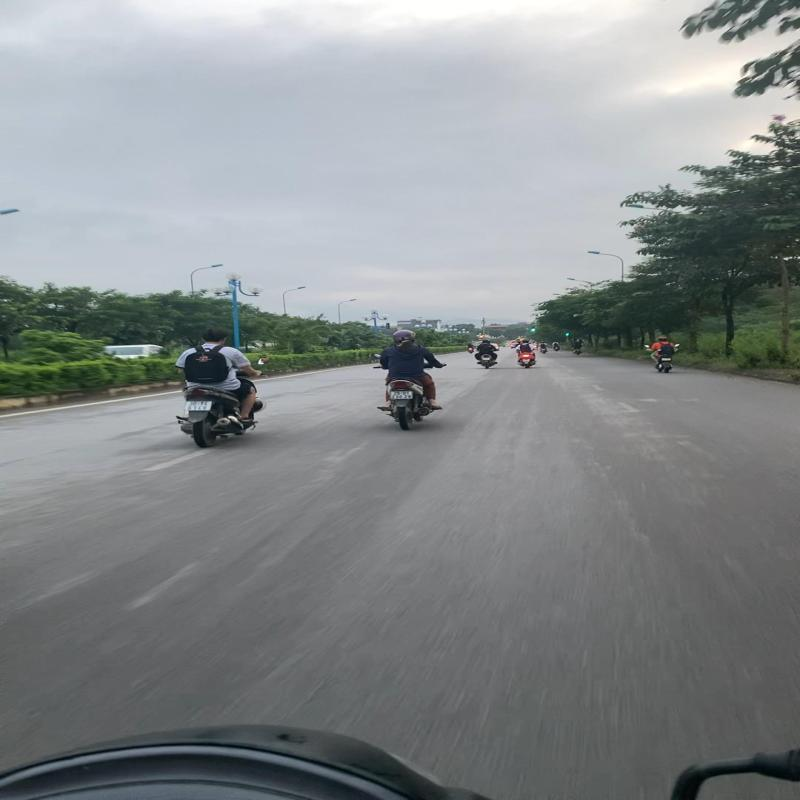helmet: (391, 330, 419, 346)
licenseplate: (182, 398, 216, 412), (388, 389, 416, 401)
motorcyclist: (169, 326, 272, 451), (367, 326, 449, 432)
nohelmet: (200, 327, 230, 343)
